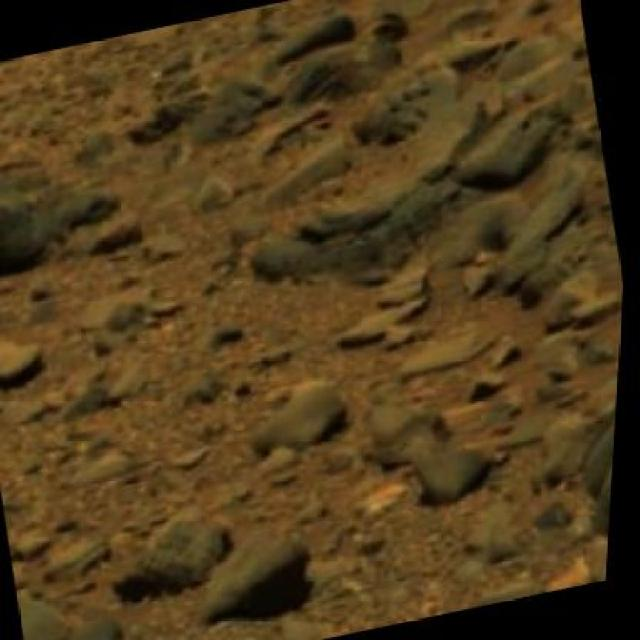rock: (194, 524, 328, 619), (0, 141, 80, 277), (565, 369, 621, 546)
